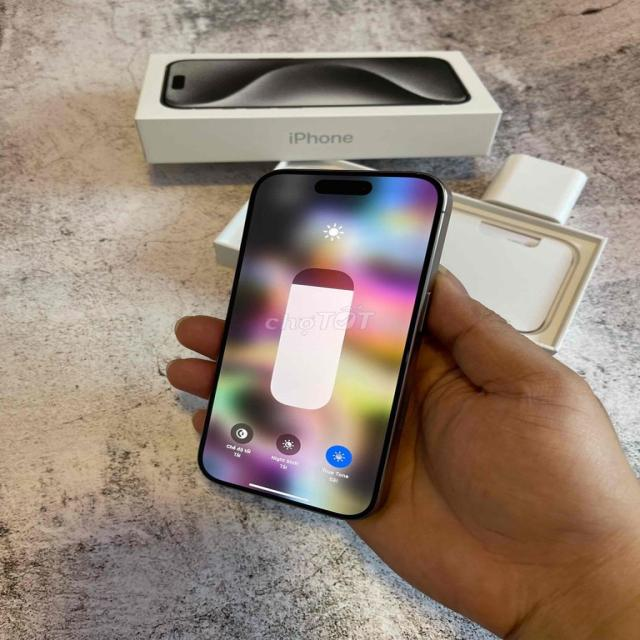gen_15: (180, 163, 460, 516)
